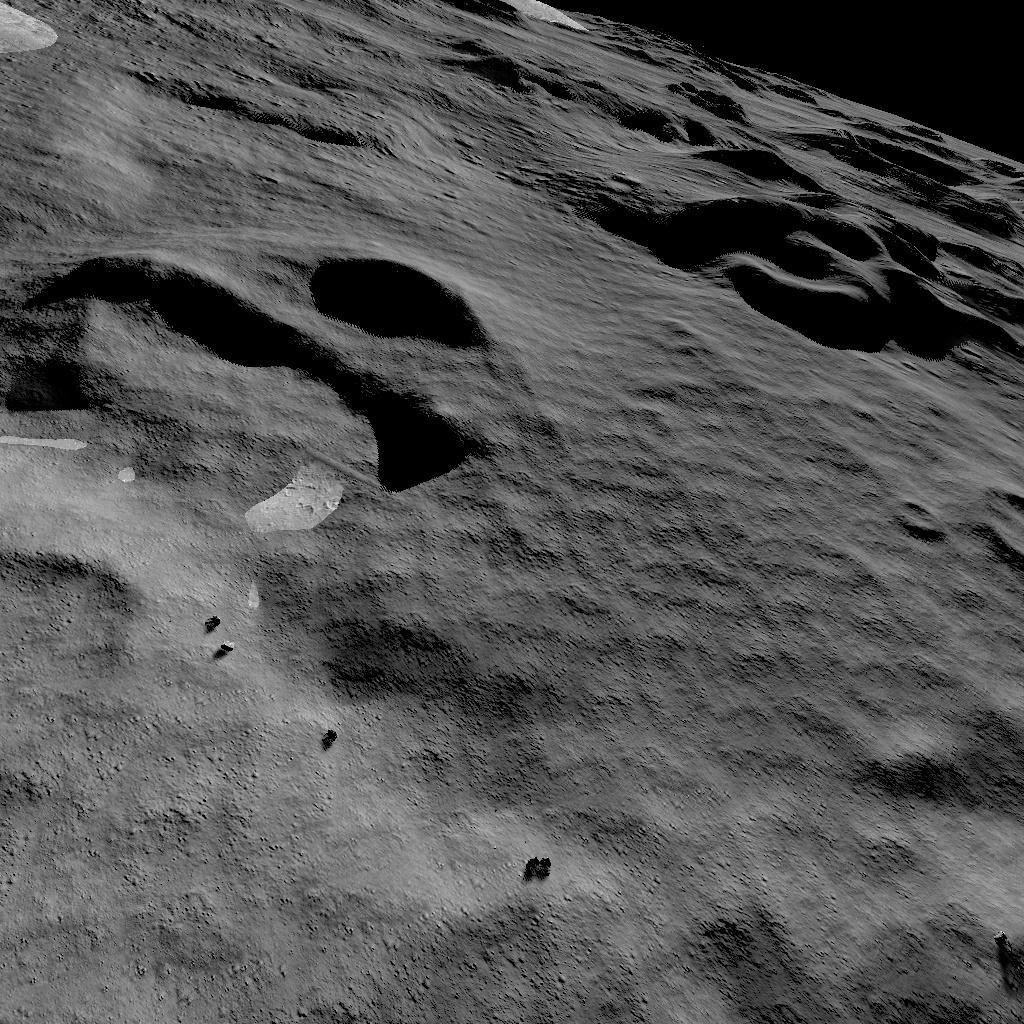Boulders: (0, 0, 111, 98)
Crater: (553, 102, 1024, 408), (0, 240, 523, 508), (0, 544, 154, 786), (877, 514, 1024, 616)
Plan surface: (553, 436, 850, 882), (0, 836, 488, 1024), (571, 892, 1024, 1024)
